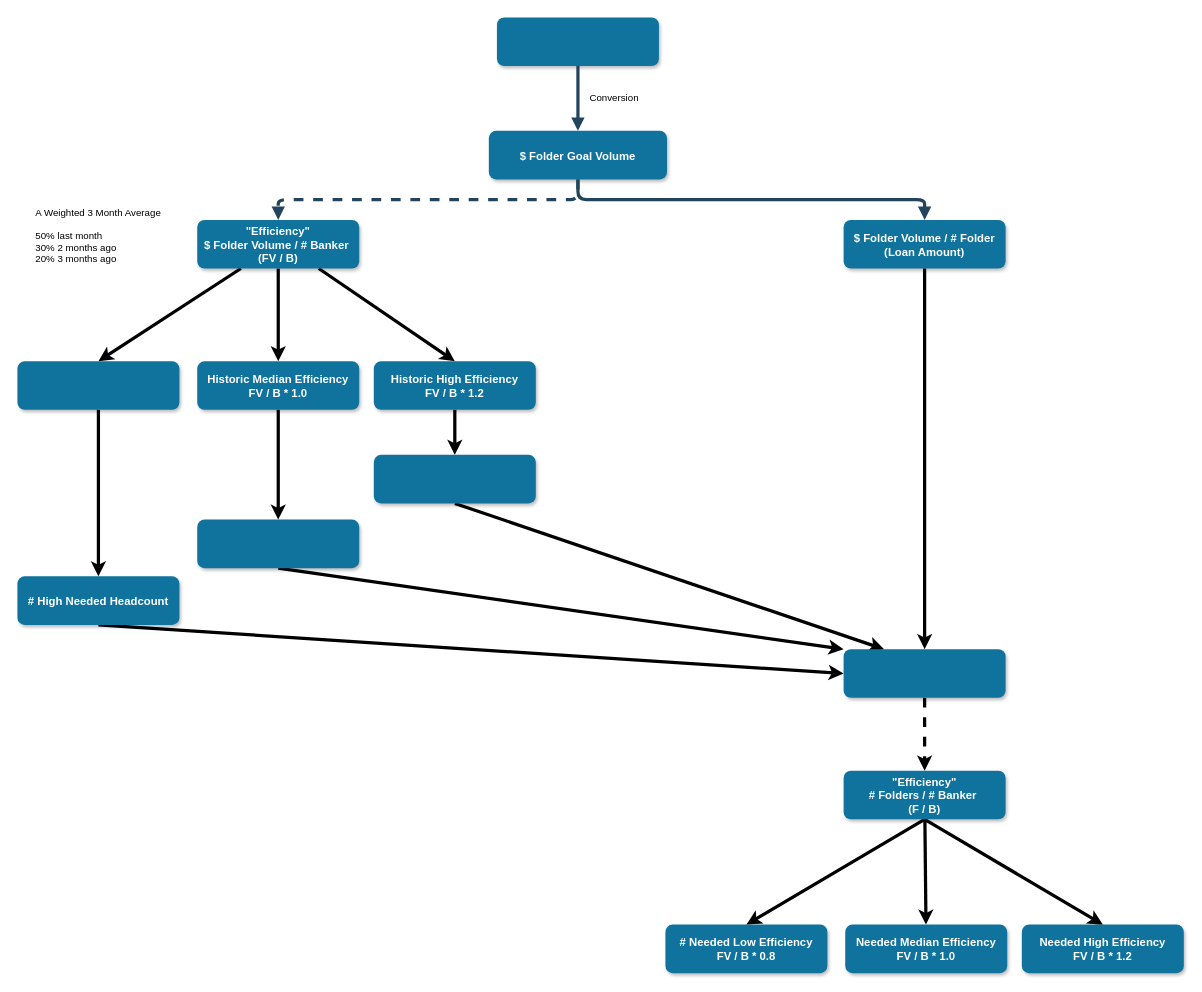
Some shapes in this 1202 by 992 pixel diagram are drawn without their labels. Each missing label, with the centre of its shape:
"# Low Needed Headcount" goes at (455,480).
"# Median Needed Headcount" goes at (279,544).
"# Total Needed Folders" goes at (925,674).
"$ Closing Goal Volume" goes at (578,42).
"Historic Low Efficiency FV / B * 0.8" goes at (99,386).
